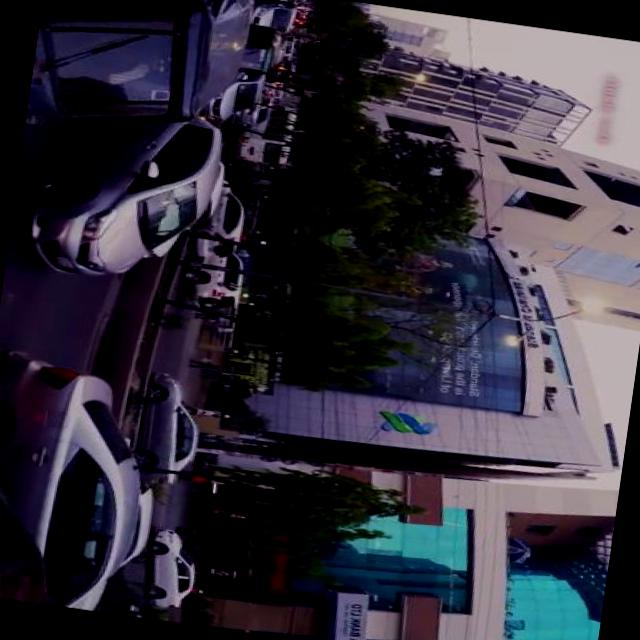bus: (240, 106, 300, 170)
car: (0, 348, 158, 616), (27, 97, 230, 296), (134, 372, 212, 489), (146, 528, 204, 612), (196, 180, 253, 262), (186, 250, 250, 316), (210, 67, 269, 129), (253, 0, 300, 39), (247, 90, 277, 130)
motorcycle: (29, 0, 257, 152), (246, 24, 288, 76)
